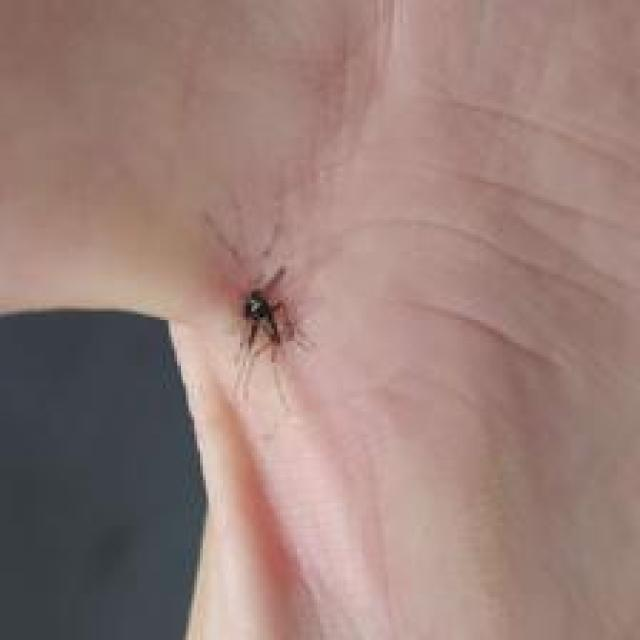Aedes albopictus: (227, 264, 316, 410)
